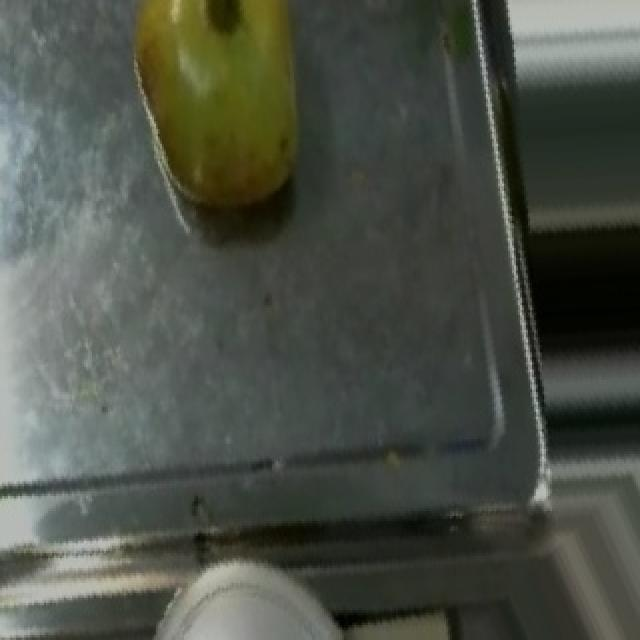fruit: (90, 0, 340, 243), (322, 588, 480, 640)
